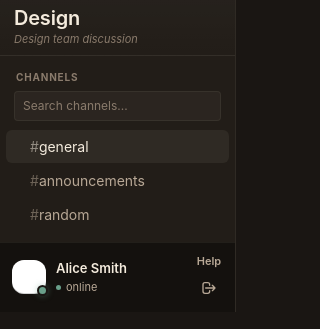
ChannelsSidebar channel rows › shows an empty channel search state when no channels match
The image size is (320, 329).
Type "zzznomatch" into the search field with test id "channel-search-input".
click(118, 106); type("zzznomatch")  # box [14,91,221,121]
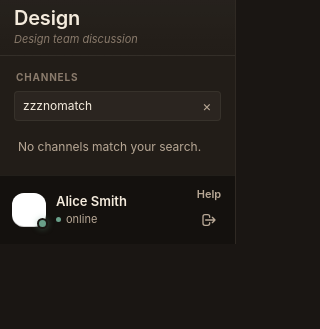
expect the text "No channels match your search." is shown: met, box [18,139,201,154]
expect the link "general" is gone: met
expect the link "announcements" is gone: met
